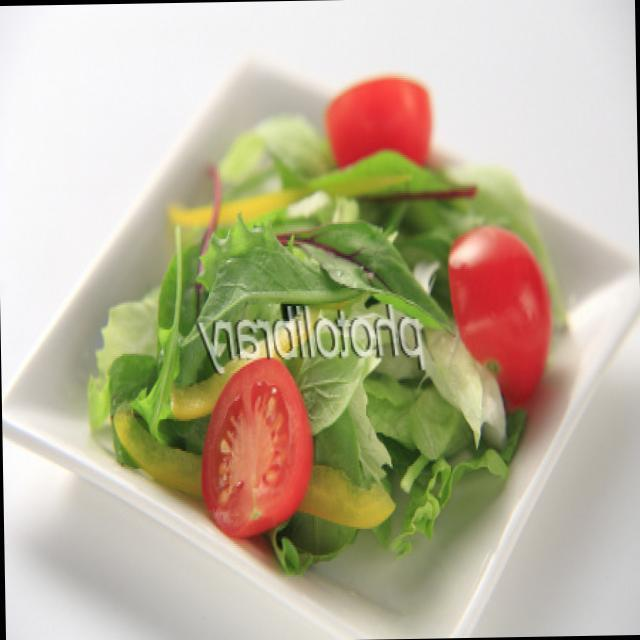Green Salad: (92, 116, 540, 520)
